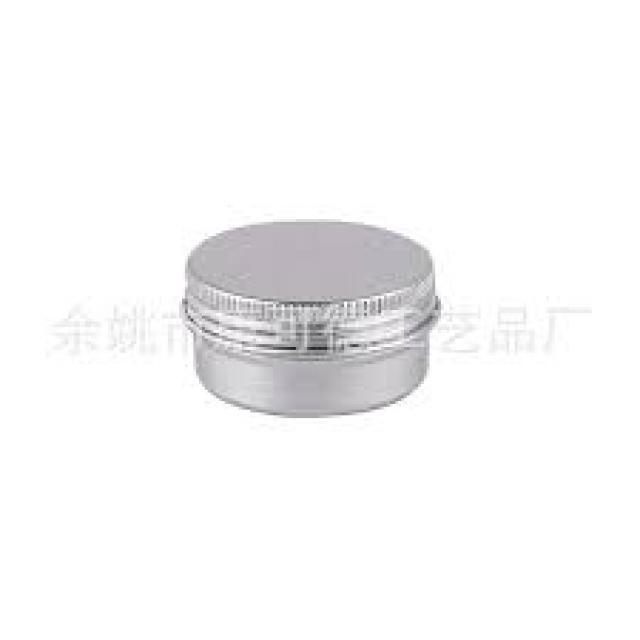recyclable: (178, 222, 440, 412)
